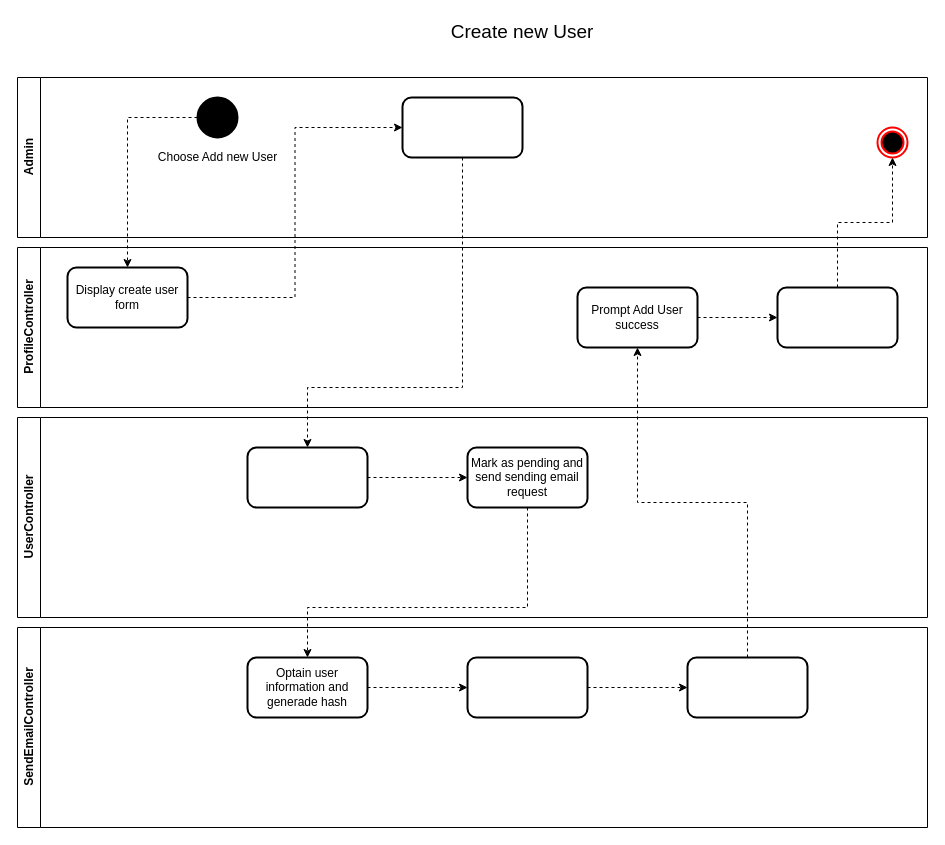
Some shapes in this 945 by 845 pixel diagram are drawn without their labels. Here are the shapes that lost their labels. From the top down, the centre of each, then its label:
the point at 462,127: Give new User information
the point at 837,317: Renew User List
the point at 307,477: Add new User to DB
the point at 527,687: generate verifying url and creat log to DB
the point at 747,687: Send verifying email to User
